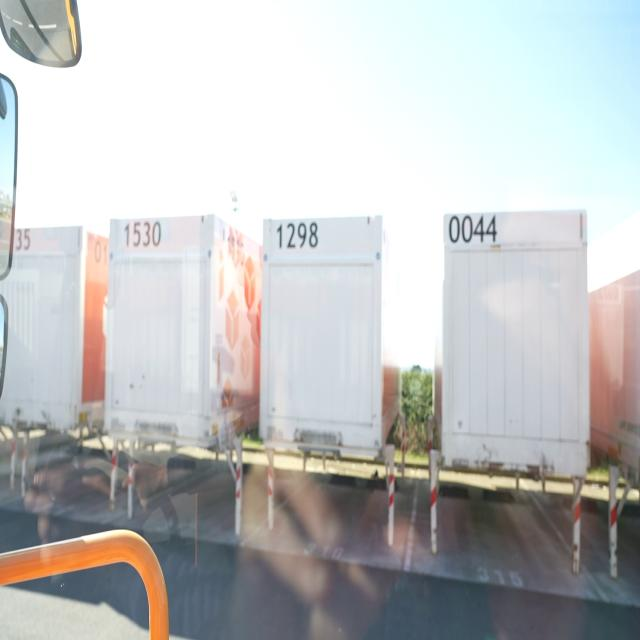Code: (448, 210, 501, 247), (274, 216, 320, 254), (120, 216, 163, 253)
